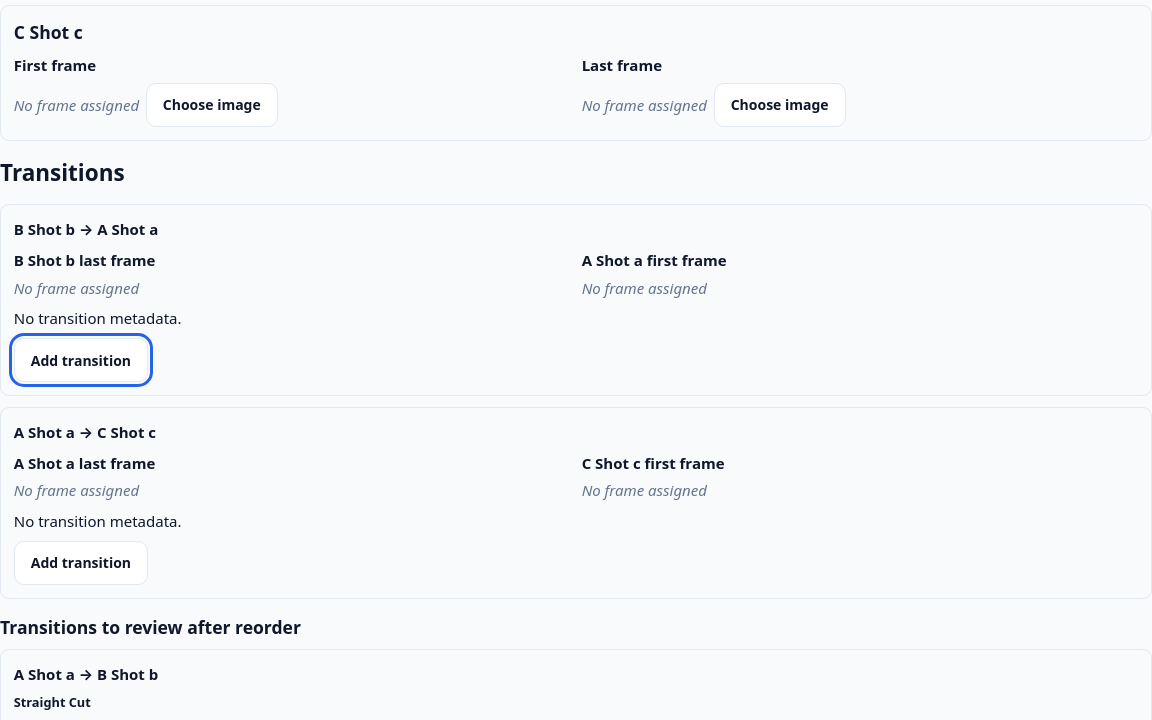
keeps detached pair metadata visible after reorder and restores focus on Escape
(page scrolled)
Expected: the heading "Transitions to review after reorder" is shown, [0, 615, 301, 639]
Click the button "Add transition" below "B Shot b last frame" at (81, 360), box [14, 338, 148, 382]
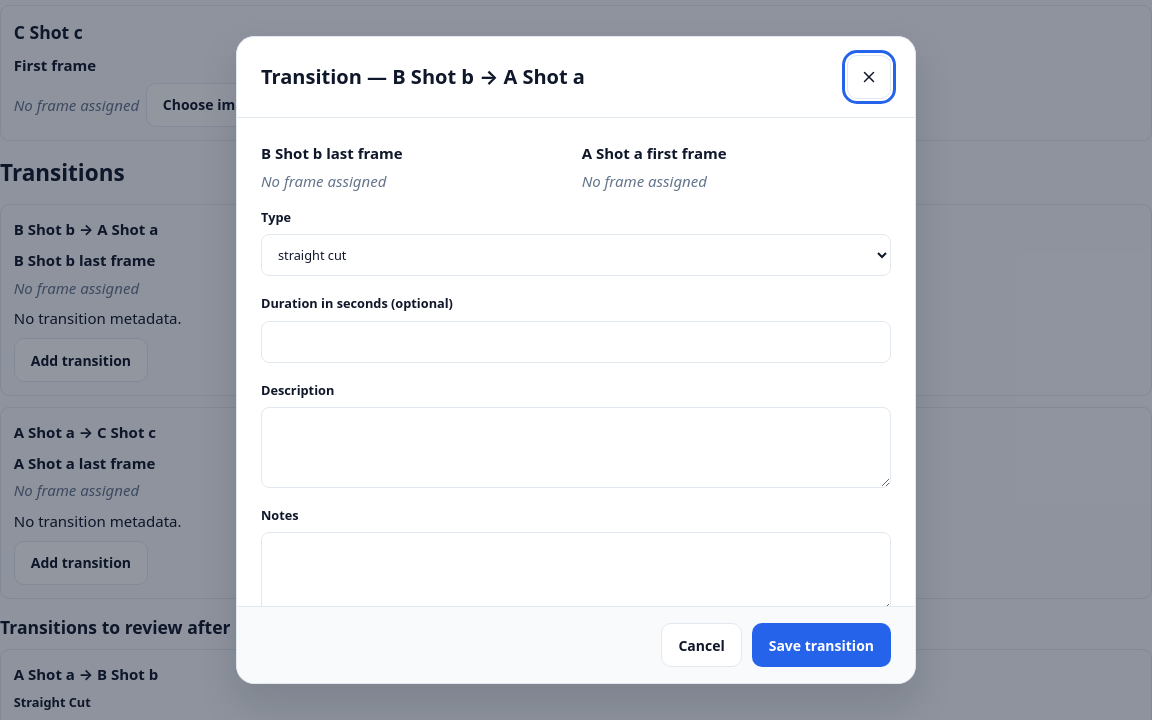
Expected: the number of dialogs is 1, [236, 36, 916, 684]
Press Escape
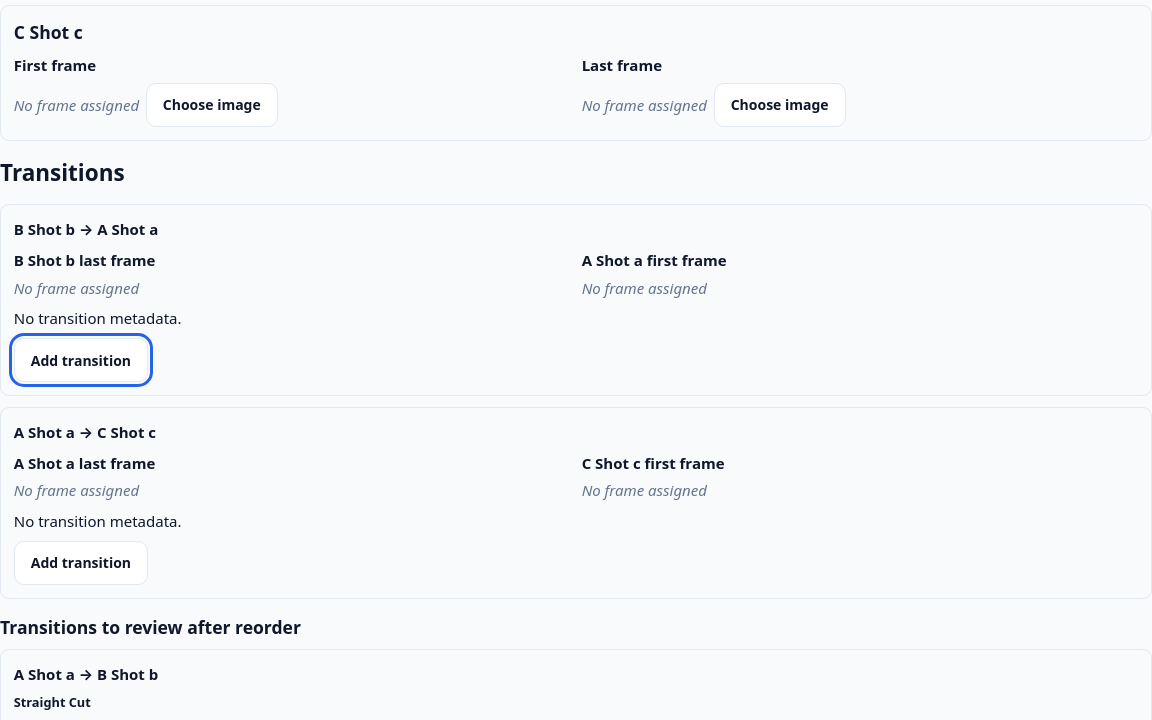
Expected: the dialog is gone
